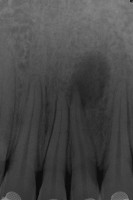Furcation Involvement: (70, 48, 113, 108)
